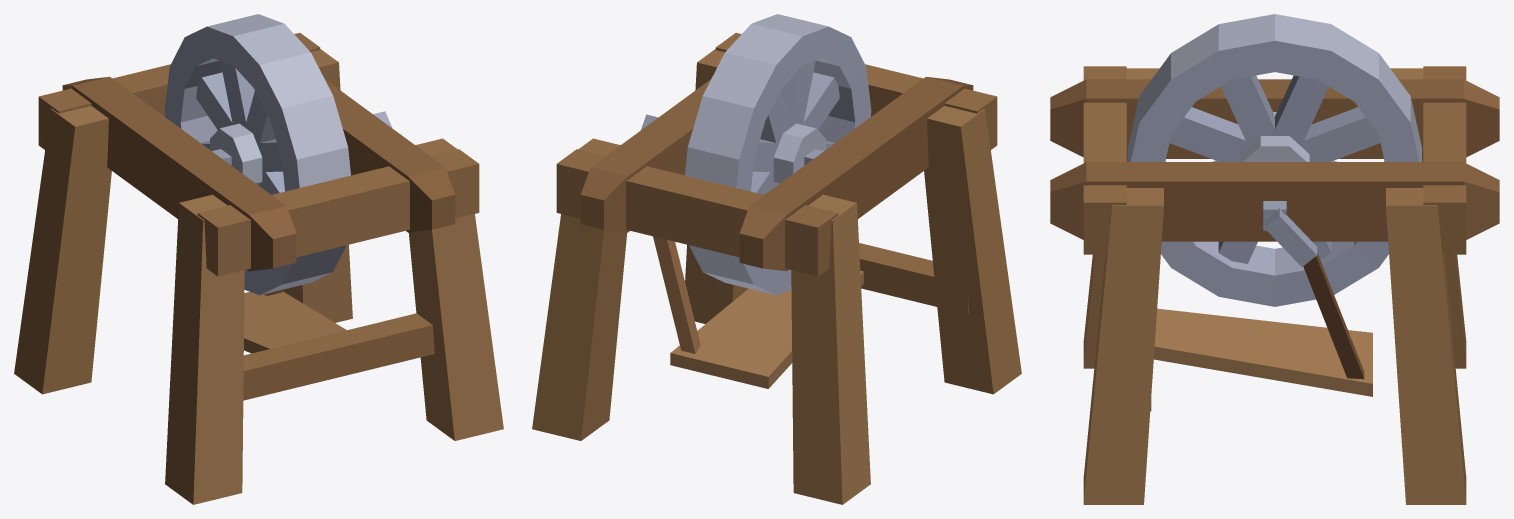
Rendered from Workbench_Grind.glb.
3 renders of one model, left to right at view 1: azimuth 30°, elevation 25°; view 2: azimuth 150°, elevation 25°; view 3: azimuth 270°, elevation 25°, orthographic. The views are drawn at different scales.
Visible parts, largest first — view 1: Workbench_Grind_Merged; view 2: Workbench_Grind_Merged; view 3: Workbench_Grind_Merged.
Part boxes in pixels (<box>): Workbench_Grind_Merged: <box>14,14,503,504</box>; Workbench_Grind_Merged: <box>532,14,1021,504</box>; Workbench_Grind_Merged: <box>1050,14,1499,504</box>.
Bounding box in the file's own units: 0.266 × 0.304 × 0.312.
